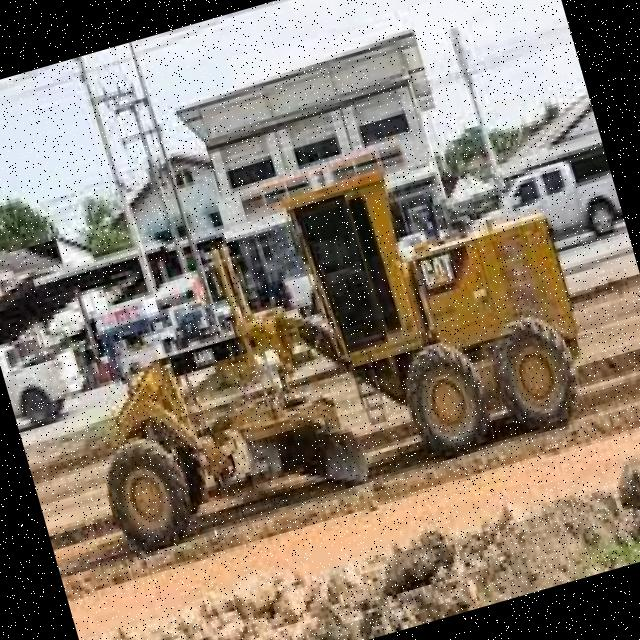Grader: (40, 106, 626, 606)
